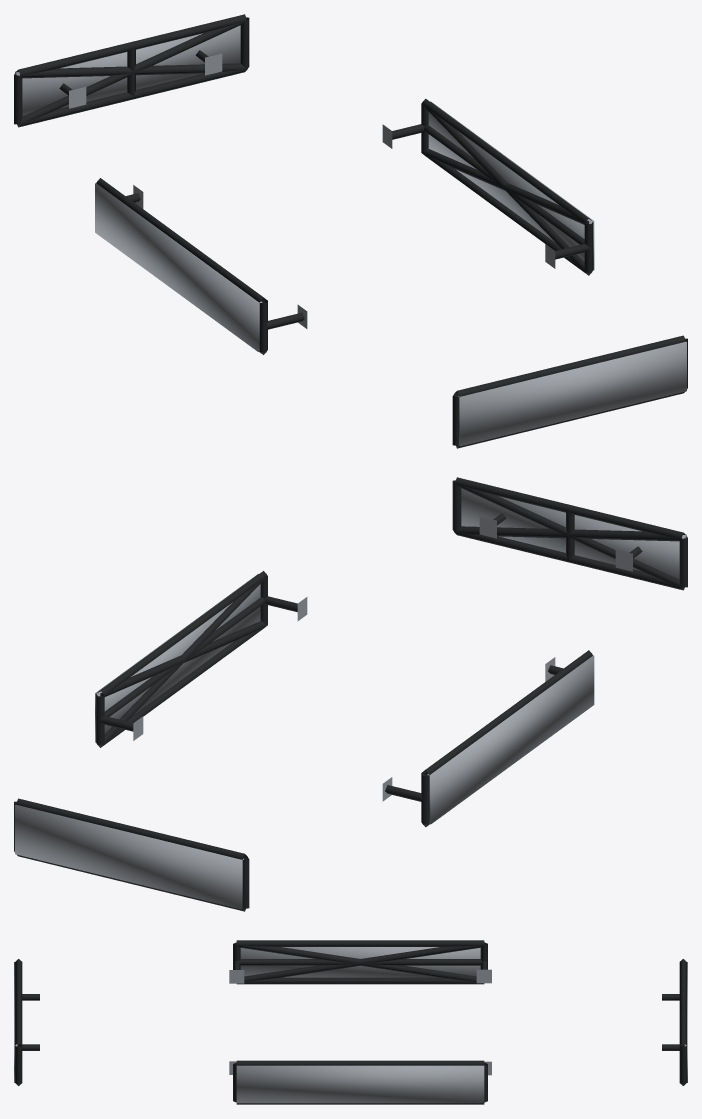
File: garrison_vendaval_protecao.glb
3 renders of one model, top to bottom at view 1: azimuth 30°, elevation 25°; view 2: azimuth 150°, elevation 25°; view 3: azimuth 270°, elevation 25°, orthographic. The views are drawn at different scales.
Visible parts, largest first — view 1: Protection_front_Level3_Details, Protection_left_Level3_Details, Protection_rear_Level1_Details, Protection_rear_Level3_Details, Protection_right_Level1_Details, Protection_right_Level2_Details, Protection_rear_Level2_Details, Protection_right_Level3_Details, Protection_left_Level1_Details, Protection_front_Level1_Details; view 2: Protection_rear_Level3_Details, Protection_left_Level3_Details, Protection_front_Level1_Details, Protection_front_Level3_Details, Protection_right_Level1_Details, Protection_right_Level2_Details, Protection_front_Level2_Details, Protection_right_Level3_Details, Protection_left_Level1_Details, Protection_rear_Level1_Details; view 3: Protection_right_Level3_Details, Protection_left_Level2_Details, Protection_left_Level1_Details, Protection_left_Level3_Details, Protection_right_Level1_Details, Protection_rear_Level1_Details, Protection_front_Level1_Details.
Part boxes in pixels (bbox=[...]): Protection_front_Level3_Details: bbox=[458, 341, 686, 446]; Protection_left_Level3_Details: bbox=[95, 183, 262, 351]; Protection_rear_Level1_Details: bbox=[14, 14, 249, 127]; Protection_rear_Level3_Details: bbox=[15, 25, 240, 116]; Protection_right_Level1_Details: bbox=[382, 98, 593, 275]; Protection_right_Level2_Details: bbox=[422, 104, 592, 275]; Protection_rear_Level2_Details: bbox=[16, 20, 246, 126]; Protection_right_Level3_Details: bbox=[428, 101, 594, 270]; Protection_left_Level1_Details: bbox=[96, 178, 307, 354]; Protection_front_Level1_Details: bbox=[452, 335, 687, 448]; Protection_rear_Level3_Details: bbox=[15, 804, 243, 909]; Protection_left_Level3_Details: bbox=[427, 655, 594, 824]; Protection_front_Level1_Details: bbox=[452, 477, 687, 590]; Protection_front_Level3_Details: bbox=[461, 488, 686, 579]; Protection_right_Level1_Details: bbox=[96, 571, 307, 747]; Protection_right_Level2_Details: bbox=[97, 576, 267, 747]; Protection_front_Level2_Details: bbox=[455, 483, 685, 589]; Protection_right_Level3_Details: bbox=[95, 574, 260, 742]; Protection_left_Level1_Details: bbox=[382, 650, 592, 827]; Protection_rear_Level1_Details: bbox=[14, 798, 249, 911]; Protection_right_Level3_Details: bbox=[236, 1065, 484, 1103]; Protection_left_Level2_Details: bbox=[237, 944, 484, 981]; Protection_left_Level1_Details: bbox=[229, 940, 491, 984]; Protection_left_Level3_Details: bbox=[240, 947, 480, 977]; Protection_right_Level1_Details: bbox=[229, 1060, 491, 1104]; Protection_rear_Level1_Details: bbox=[662, 959, 686, 1085]; Protection_front_Level1_Details: bbox=[15, 959, 39, 1085].
Bounding box in the file's own units: 2.15 × 0.354 × 4.93.
1 material, 1 textured.
